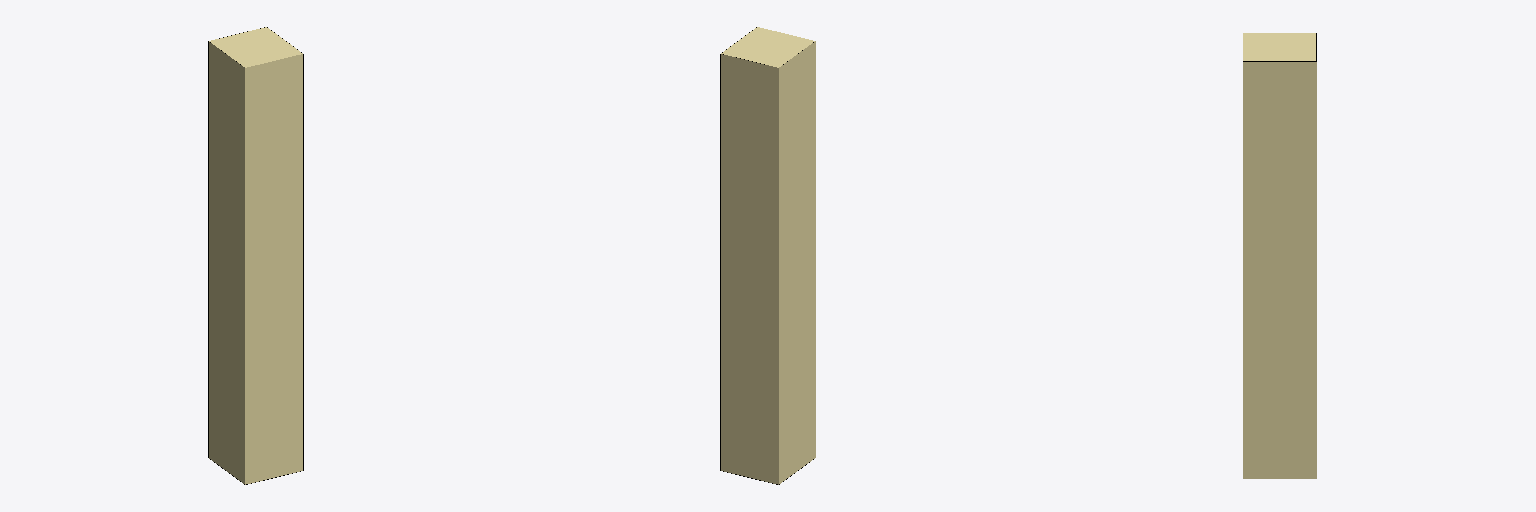
3 renders of one model, left to right at view 1: azimuth 30°, elevation 25°; view 2: azimuth 150°, elevation 25°; view 3: azimuth 270°, elevation 25°, orthographic.
Visible parts, largest first — view 1: left_arm_Cube.004; view 2: left_arm_Cube.004; view 3: left_arm_Cube.004.
Part boxes in pixels (bbox=[...]): left_arm_Cube.004: bbox=[208, 27, 303, 484]; left_arm_Cube.004: bbox=[720, 27, 815, 484]; left_arm_Cube.004: bbox=[1243, 33, 1316, 478].
Bounding box in the file's own units: 0.0559 × 0.3818 × 0.0611.
Materials: 1 (1 with a texture image).